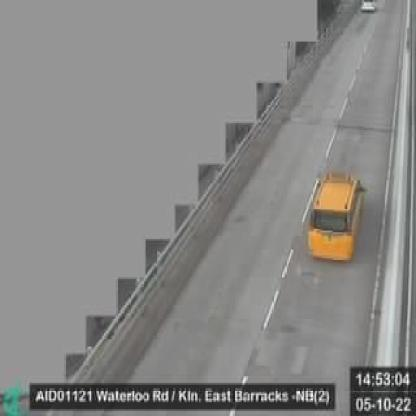Car: (307, 172, 368, 262)
